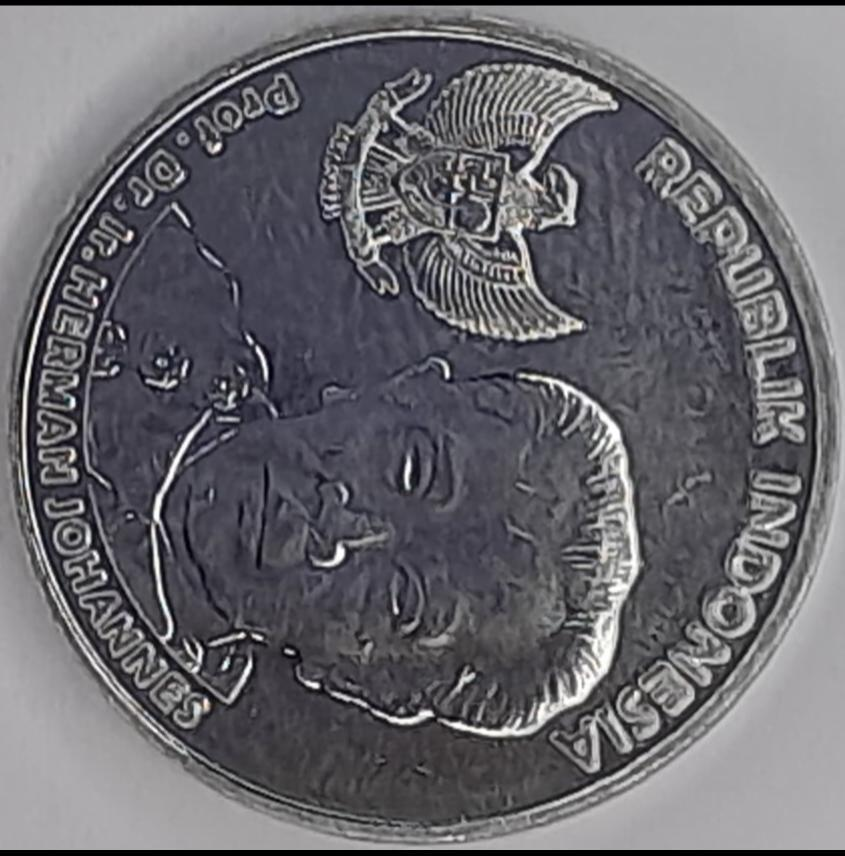coin_100_e2016: (1, 10, 844, 844)
